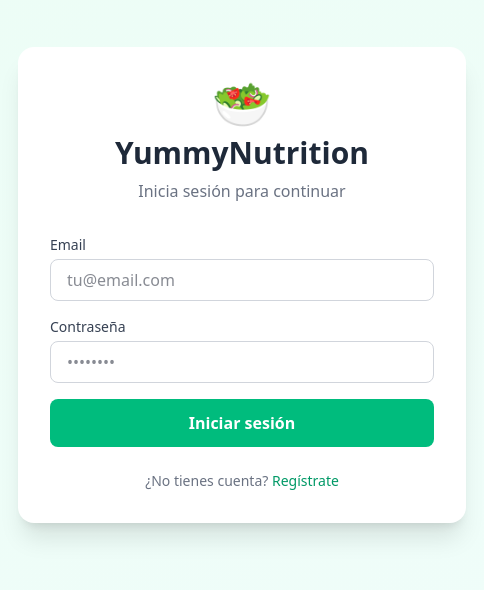
Test case: Flujo 1: Registro y Login › Rechaza login con contraseña incorrecta
Type "demo@yummy.com" into the field with placeholder "tu@email.com" at {"x": 242, "y": 280}, box x1=50 y1=259 x2=434 y2=301
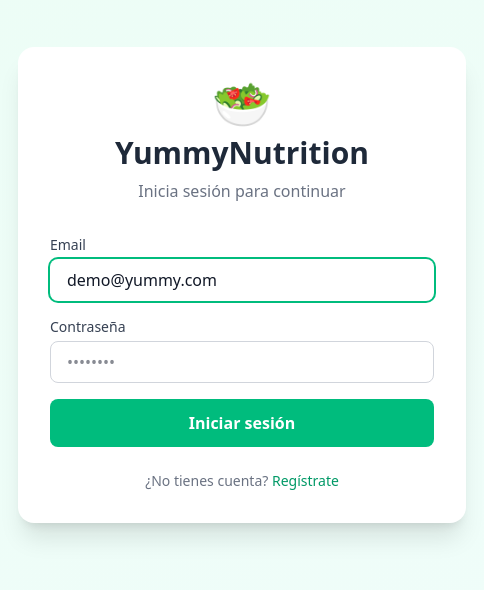
Type "password_incorrecto" into the password field with placeholder "••••••••" at {"x": 242, "y": 362}, box x1=50 y1=341 x2=434 y2=383
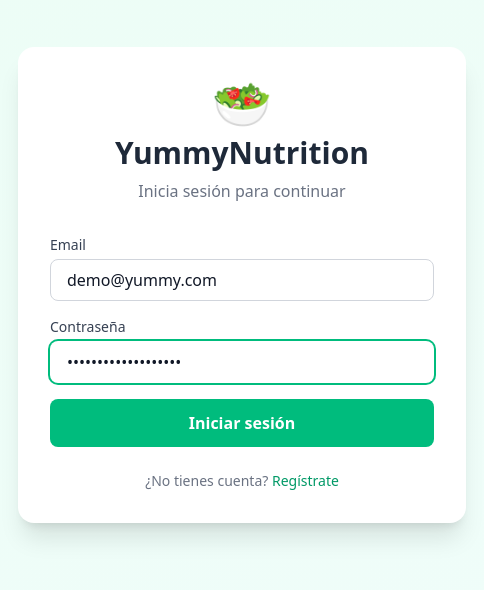
Click the button "Iniciar sesión" at {"x": 242, "y": 423}, box x1=50 y1=399 x2=434 y2=447
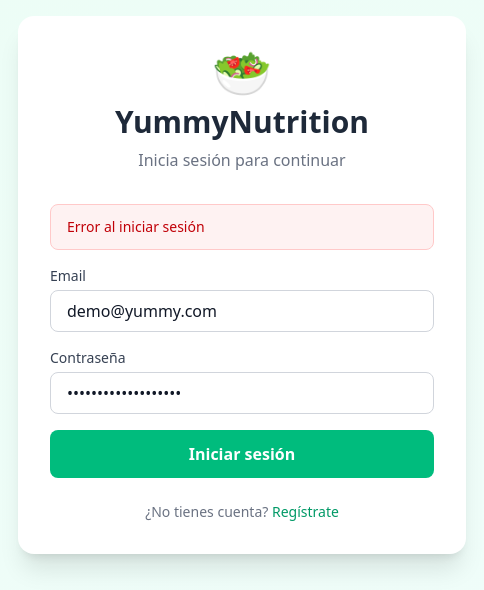
expect the text "Error al iniciar sesión" is shown: met, box x1=50 y1=204 x2=434 y2=250
